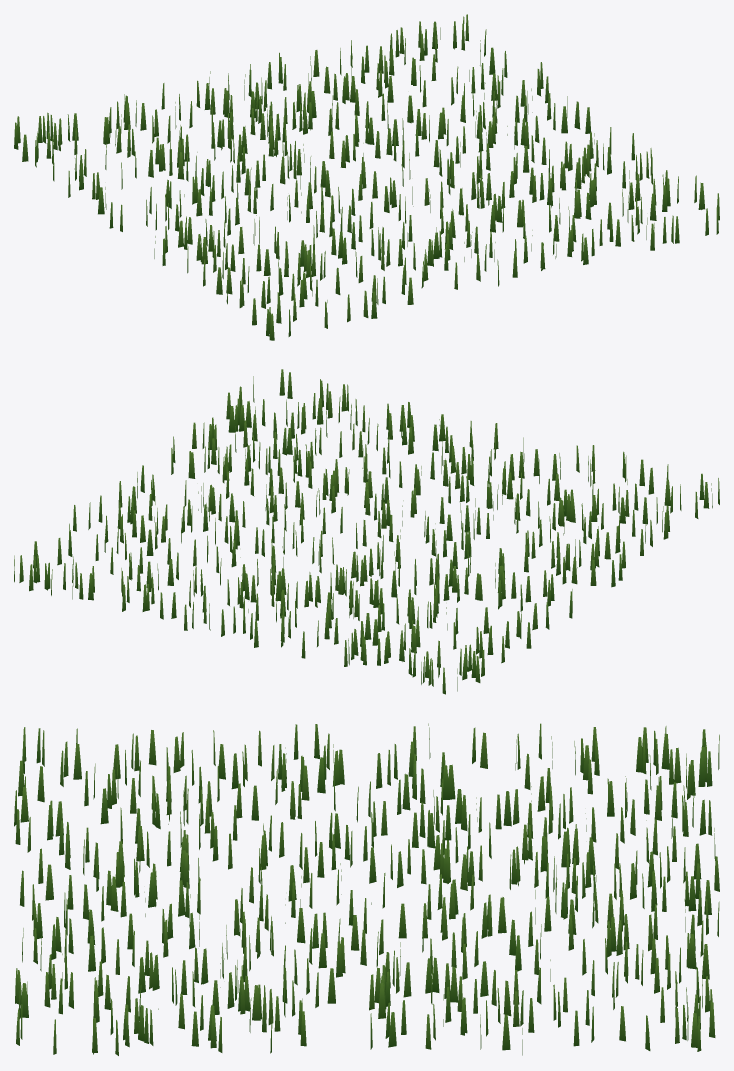
File: Turf_Lawn_v1.glb
The picture shows the model from 3 angles, top to bottom: view 1: azimuth 30°, elevation 25°; view 2: azimuth 150°, elevation 25°; view 3: azimuth 270°, elevation 25°; orthographic projection. The views are drawn at different scales.
Parts seen in each view (by area): view 1: Turf_Lawn_v1; view 2: Turf_Lawn_v1; view 3: Turf_Lawn_v1.
Part boxes in pixels (x1=…): Turf_Lawn_v1: x1=14, y1=14, x2=719, y2=340; Turf_Lawn_v1: x1=14, y1=369, x2=719, y2=694; Turf_Lawn_v1: x1=14, y1=723, x2=719, y2=1055.
Size of the model in its own units: 1.23 by 0.0669 by 1.22.
